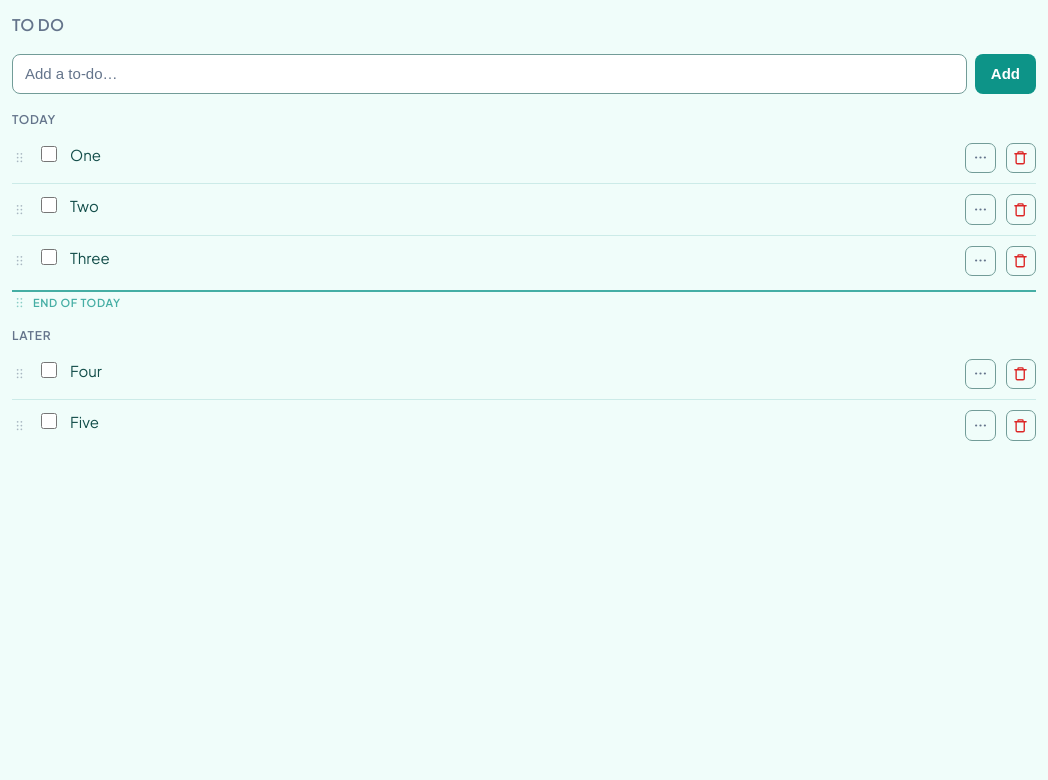
Scenario: TodoSection — move a to-do across the Today line (50-B) › a failed move reverts the list and tells the user
Expected: the button "One" is shown, [70,143,955,167]
Click the button named "Actions for \"Five\"".
click(980, 425)  # box [965,410,996,440]
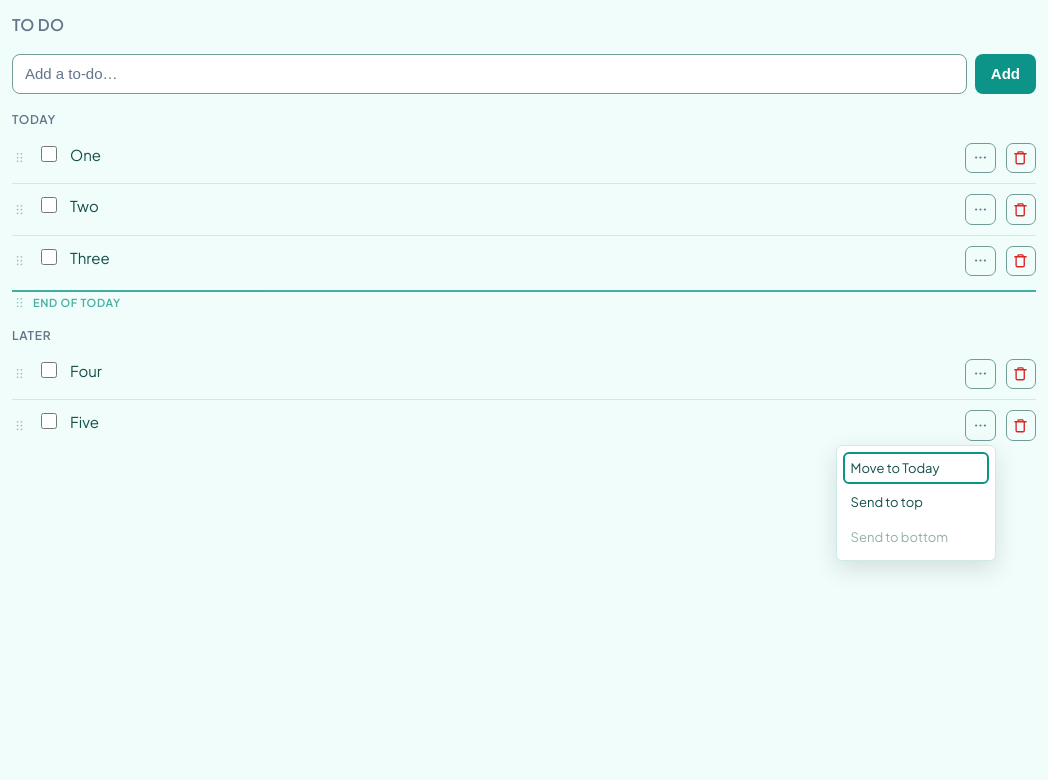
Click the menu item "Move to Today".
click(916, 468)  # box [843,452,989,484]
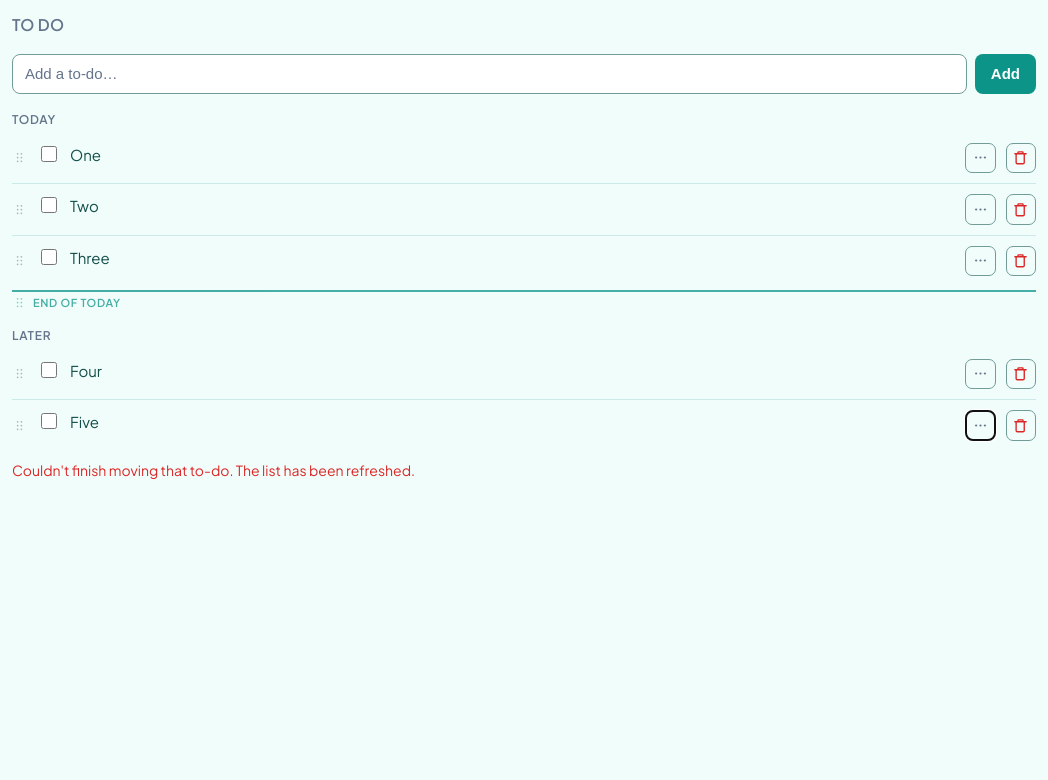
Expected: the message shows "Couldn't finish moving", [12,460,415,478]
